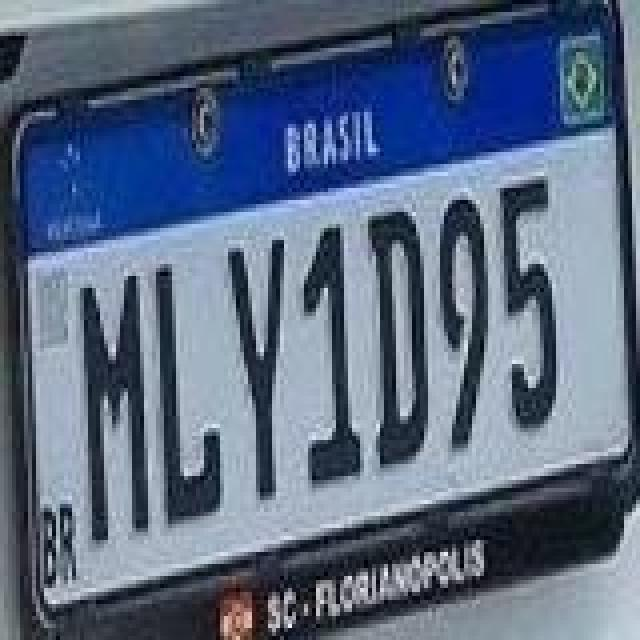1: (302, 224, 362, 488)
5: (498, 178, 558, 430)
9: (438, 192, 490, 448)
D: (368, 208, 432, 472)
L: (154, 264, 222, 528)
M: (82, 272, 150, 544)
Y: (228, 236, 284, 500)
